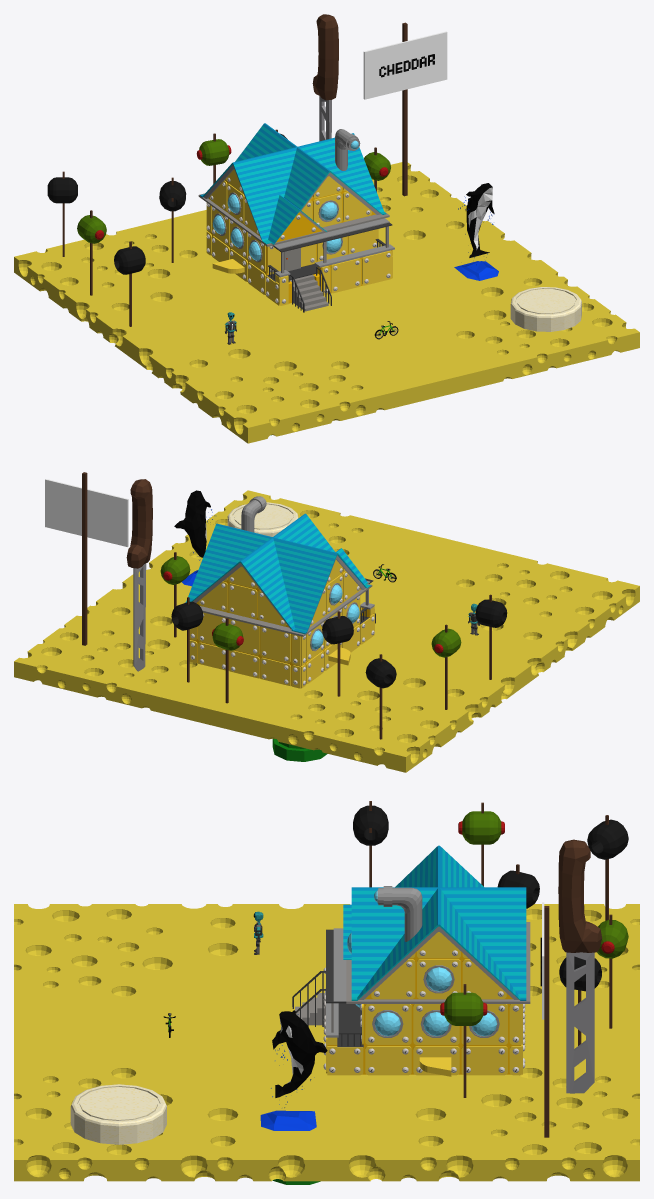
3 views of the same model, one above another, from view 1: azimuth 30°, elevation 25°; view 2: azimuth 150°, elevation 25°; view 3: azimuth 270°, elevation 25° (orthographic). The views are drawn at different scales.
Parts seen in each view (by area): view 1: Cube.022, Cube.1366, Cube.023, Cylinder.016, Cube.024, ANIMAL_ORCA, Sphere.017, Sphere.016, Sphere.020, Sphere.018, Sphere.022, Sphere.019; view 2: Cube.022, Cube.1366, Cube.023, Cube.024, ANIMAL_ORCA, Cylinder.016, Sphere.020, Sphere.016, Sphere.022, Sphere.017, Sphere.021, Sphere.018 (+2 smaller); view 3: Cube.022, Cube.1366, Cube.024, Cylinder.016, ANIMAL_ORCA, Cube.023, Sphere.019, Sphere.016, Sphere.018, Sphere.017, Sphere.022, Sphere.020 (+1 smaller).
Part boxes in pixels (left/top/right/bottom): Cube.022: left=14, top=162, right=639, bottom=443; Cube.1366: left=198, top=123, right=394, bottom=312; Cube.023: left=363, top=22, right=447, bottom=196; Cylinder.016: left=510, top=287, right=581, bottom=331; Cube.024: left=312, top=14, right=338, bottom=141; ANIMAL_ORCA: left=454, top=183, right=498, bottom=280; Sphere.017: left=114, top=241, right=145, bottom=326; Sphere.016: left=47, top=171, right=77, bottom=256; Sphere.020: left=159, top=177, right=186, bottom=262; Sphere.018: left=77, top=210, right=106, bottom=295; Sphere.022: left=196, top=133, right=231, bottom=183; Sphere.019: left=364, top=147, right=390, bottom=191; Cube.022: left=14, top=490, right=639, bottom=772; Cube.1366: left=184, top=496, right=375, bottom=688; Cube.023: left=45, top=472, right=128, bottom=645; Cube.024: left=126, top=479, right=152, bottom=671; ANIMAL_ORCA: left=174, top=490, right=215, bottom=586; Cylinder.016: left=227, top=502, right=298, bottom=536; Sphere.020: left=322, top=611, right=353, bottom=696; Sphere.016: left=365, top=654, right=396, bottom=739; Sphere.022: left=212, top=618, right=243, bottom=703; Sphere.017: left=475, top=594, right=507, bottom=679; Sphere.021: left=171, top=597, right=203, bottom=682; Sphere.018: left=431, top=624, right=461, bottom=709; Cube.022: left=14, top=904, right=639, bottom=1181; Cube.1366: left=292, top=845, right=530, bottom=1076; Cube.024: left=558, top=839, right=602, bottom=1093; Cylinder.016: left=70, top=1084, right=166, bottom=1144; ANIMAL_ORCA: left=260, top=1010, right=327, bottom=1130; Cube.023: left=540, top=902, right=549, bottom=1137; Sphere.019: left=440, top=984, right=487, bottom=1097; Sphere.016: left=587, top=815, right=628, bottom=920; Sphere.018: left=458, top=802, right=504, bottom=886; Sphere.017: left=353, top=801, right=388, bottom=887; Sphere.022: left=597, top=914, right=628, bottom=1028; Sphere.020: left=497, top=864, right=539, bottom=908.
Bounding box in the file's own units: 3917 × 2590 × 4000.
Materials: 34 (3 with a texture image).
